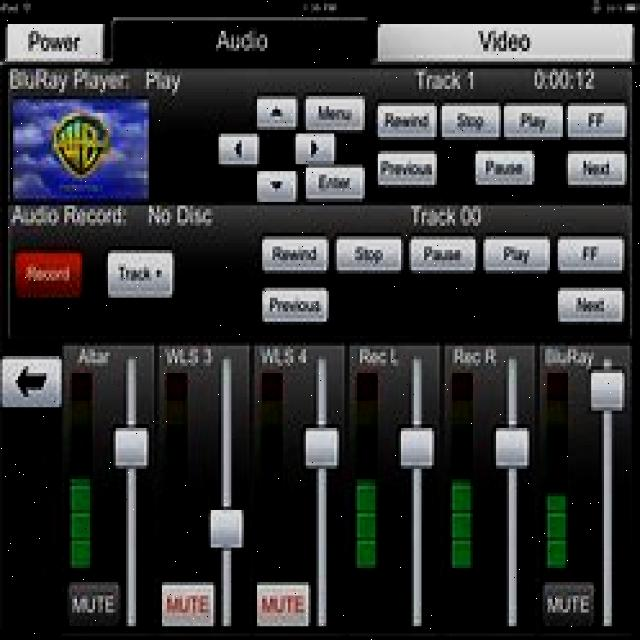button: (11, 244, 86, 299), (105, 244, 177, 299), (0, 352, 65, 409), (258, 231, 330, 275), (333, 231, 404, 274), (254, 577, 312, 629), (158, 578, 216, 630), (408, 233, 477, 274), (554, 234, 626, 273), (482, 234, 552, 274), (66, 579, 122, 629), (540, 577, 597, 625), (555, 285, 625, 323), (261, 285, 330, 323), (305, 92, 367, 130), (474, 148, 536, 186), (378, 149, 438, 186), (305, 167, 366, 202), (567, 151, 626, 186), (377, 104, 436, 138), (441, 104, 500, 138), (504, 104, 563, 138), (568, 104, 626, 138), (256, 92, 298, 130), (255, 168, 299, 204), (218, 132, 260, 166), (295, 132, 337, 164)
label: (6, 64, 184, 100), (10, 205, 129, 230), (408, 202, 484, 229), (411, 68, 478, 94), (147, 204, 216, 228), (530, 66, 596, 91), (261, 345, 314, 370), (542, 343, 595, 367), (165, 344, 217, 368), (452, 344, 498, 370), (356, 345, 402, 370), (75, 346, 113, 368)
slider: (491, 370, 530, 630), (396, 380, 436, 630), (112, 343, 153, 573), (204, 370, 249, 566), (588, 365, 628, 576), (303, 374, 342, 570)
tabControl: (2, 13, 638, 68)
